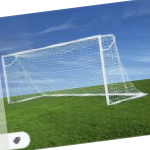goals: (1, 33, 149, 106)
